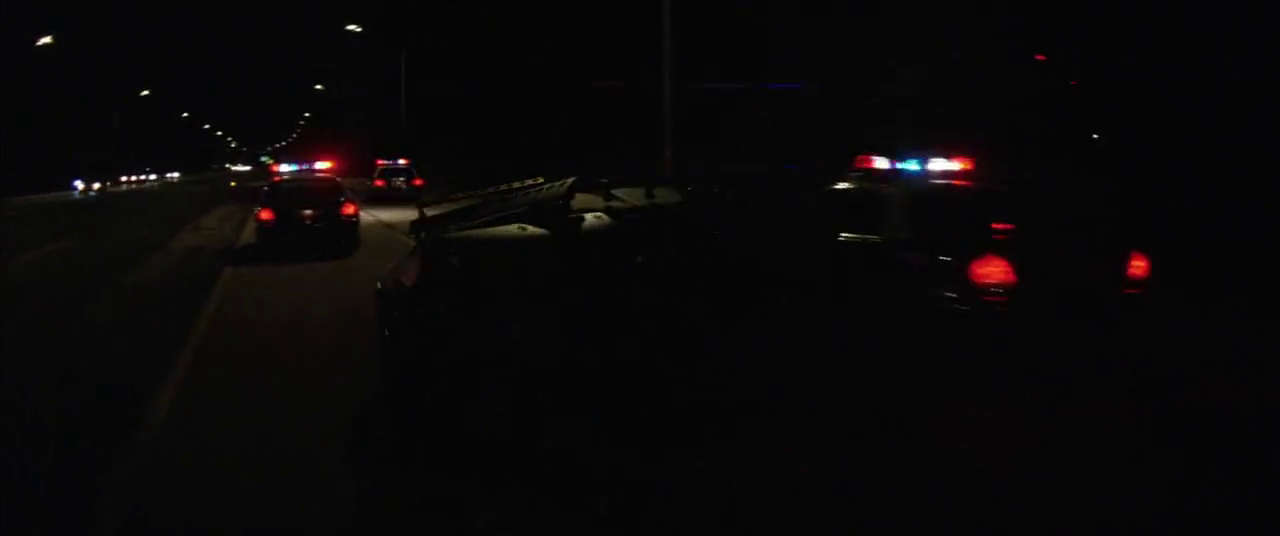car: (235, 162, 357, 276)
